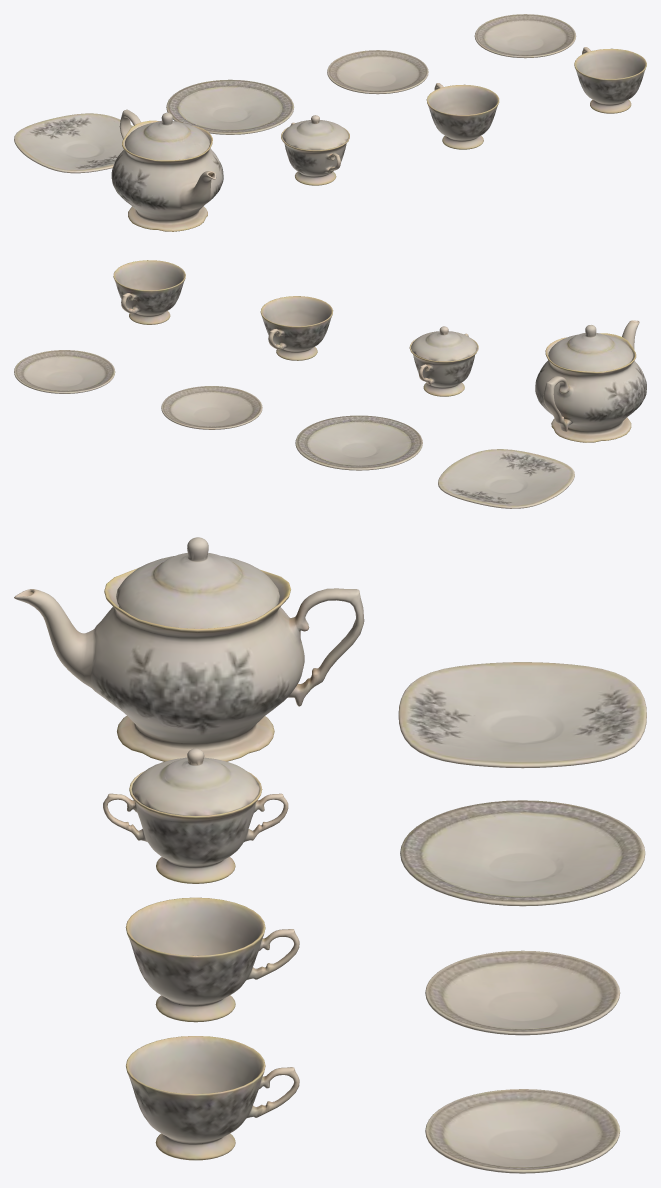
File: tea-set.glb
3 renders of one model, top to bottom at view 1: azimuth 30°, elevation 25°; view 2: azimuth 150°, elevation 25°; view 3: azimuth 270°, elevation 25°, orthographic. The views are drawn at different scales.
Parts seen in each view (by area): view 1: tea_set_01_plate_large_square_01; view 2: tea_set_01_plate_large_square_01; view 3: tea_set_01_plate_large_square_01.
Boxes of the visible parts, x1,y1,x2,y2 form: tea_set_01_plate_large_square_01: (14, 14, 646, 231); tea_set_01_plate_large_square_01: (14, 260, 646, 508); tea_set_01_plate_large_square_01: (14, 537, 646, 1173).
Bounding box in the file's own units: 0.9185 × 0.1649 × 0.4839.
1 material, 1 textured.
